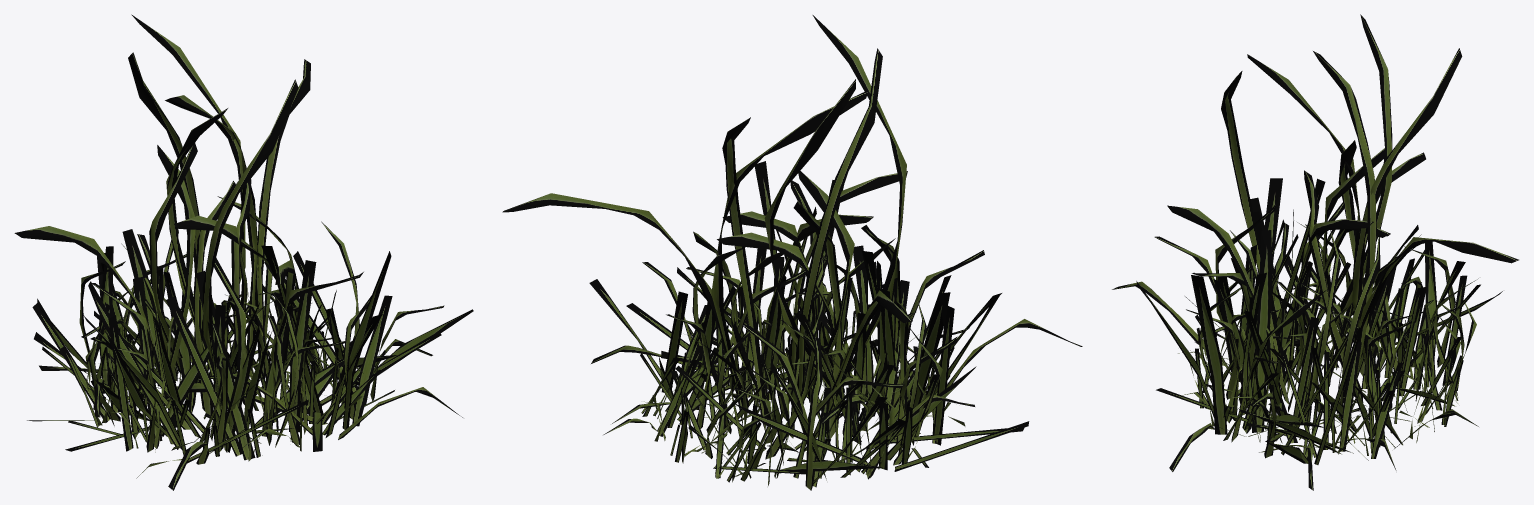
File: wild.glb
The picture shows the model from 3 angles, left to right: view 1: azimuth 30°, elevation 25°; view 2: azimuth 150°, elevation 25°; view 3: azimuth 270°, elevation 25°; orthographic projection. The views are drawn at different scales.
Parts seen in each view (by area): view 1: GS Grass Wild Clump Dry 01; view 2: GS Grass Wild Clump Dry 01; view 3: GS Grass Wild Clump Dry 01.
Boxes of the visible parts, x1,y1,x2,y2 form: GS Grass Wild Clump Dry 01: (14,14,473,490); GS Grass Wild Clump Dry 01: (502,15,1082,490); GS Grass Wild Clump Dry 01: (1112,14,1518,490).
Size of the model in its own units: 0.8329 by 0.692 by 0.6991.
Materials: 1 (1 with a texture image).
